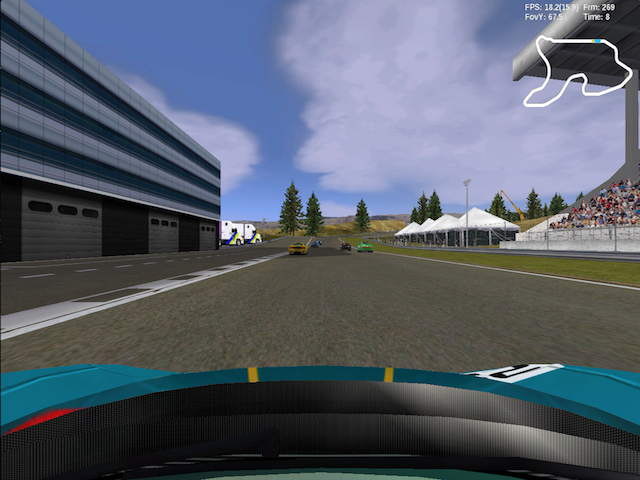Boxer96: (356, 242, 375, 253)
Cavallo360: (287, 242, 309, 256)
Spirit300: (341, 243, 351, 251)
